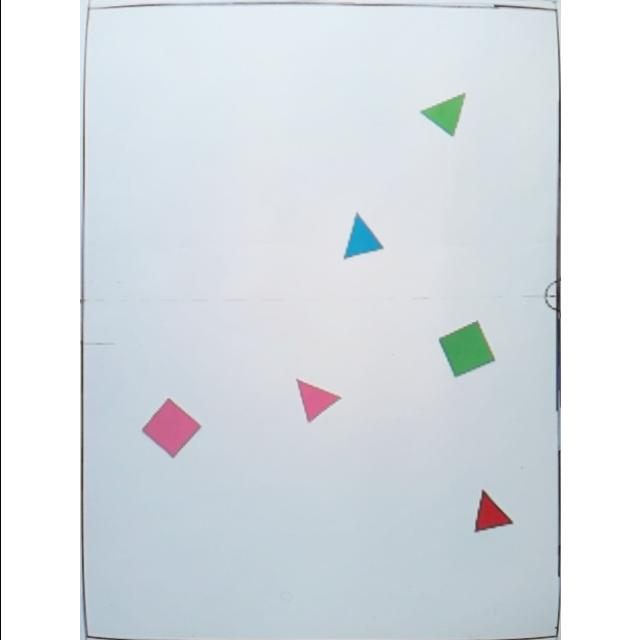blueTriangle: (339, 212, 385, 262)
greenSquare: (437, 322, 495, 378)
greenTriangle: (416, 90, 468, 138)
pinkSquare: (142, 398, 202, 458)
pinkTriangle: (292, 378, 344, 424)
redTriangle: (468, 486, 516, 534)
